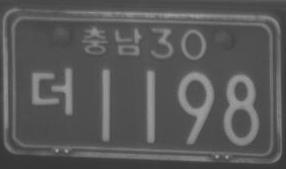0: (179, 28, 208, 62)
1: (92, 67, 122, 142), (137, 68, 165, 144)
3: (148, 25, 174, 60)
8: (221, 72, 261, 147)
9: (176, 69, 216, 145)
더: (29, 66, 75, 115)
충남_O: (81, 25, 143, 56)
